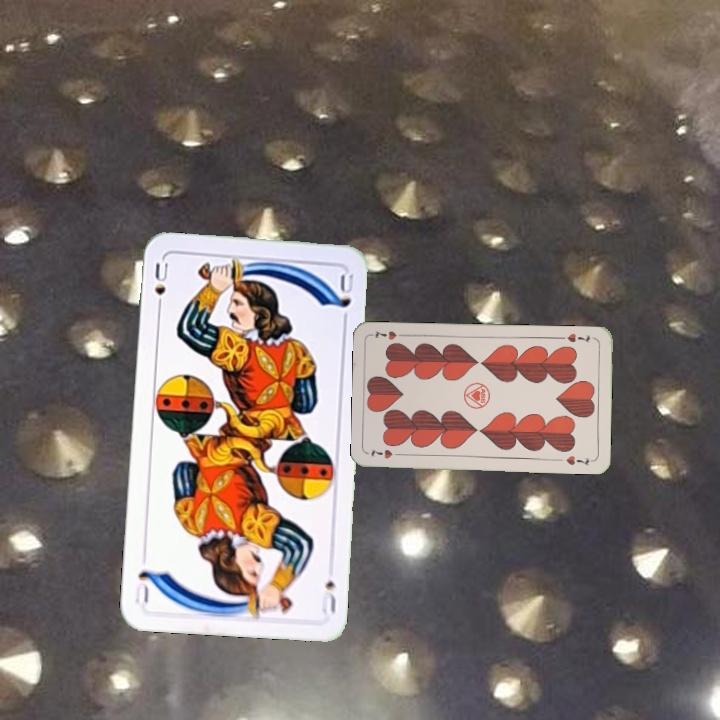H7: (367, 446, 406, 461), (563, 329, 592, 345)
SU: (150, 258, 171, 315), (317, 576, 339, 616)
